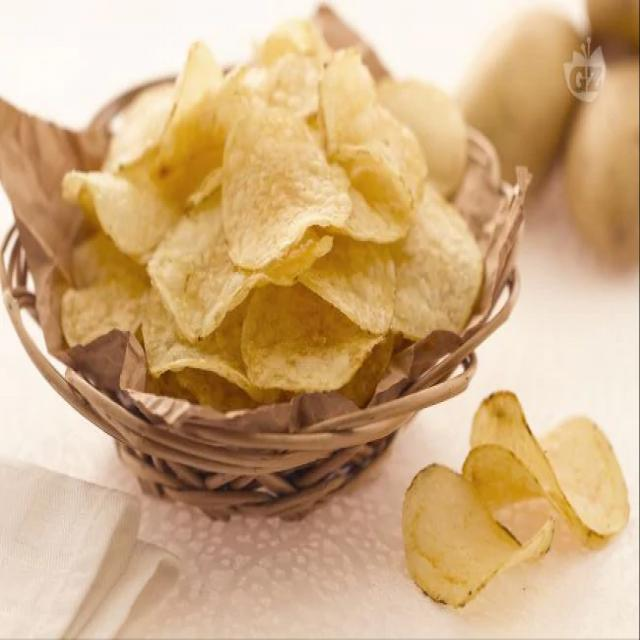Chips packaged: (64, 33, 486, 427)
